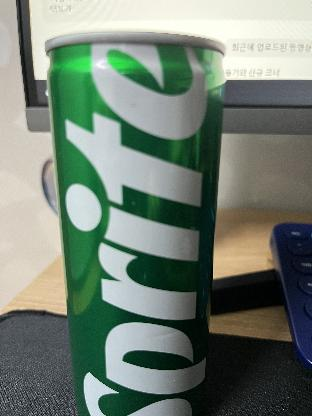Can: (44, 38, 226, 413)
